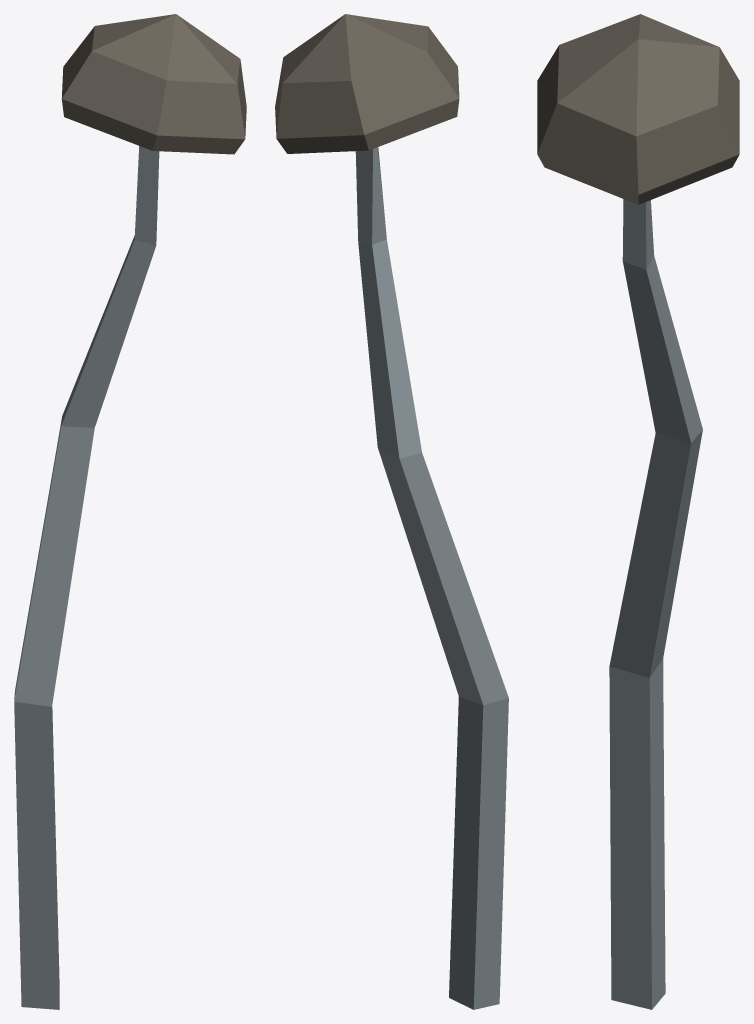
Rendered from Mushroom-D03.fbx.
The picture shows the model from 3 angles, left to right: view 1: azimuth 30°, elevation 25°; view 2: azimuth 150°, elevation 25°; view 3: azimuth 270°, elevation 25°; orthographic projection. The views are drawn at different scales.
Visible parts, largest first — view 1: Mushroom-D03; view 2: Mushroom-D03; view 3: Mushroom-D03.
Boxes of the visible parts, x1=… form: Mushroom-D03: x1=14, y1=14, x2=246, y2=1009; Mushroom-D03: x1=275, y1=14, x2=508, y2=1009; Mushroom-D03: x1=537, y1=14, x2=739, y2=1009.
Bounding box in the file's own units: 21.06 × 82.31 × 14.68.
